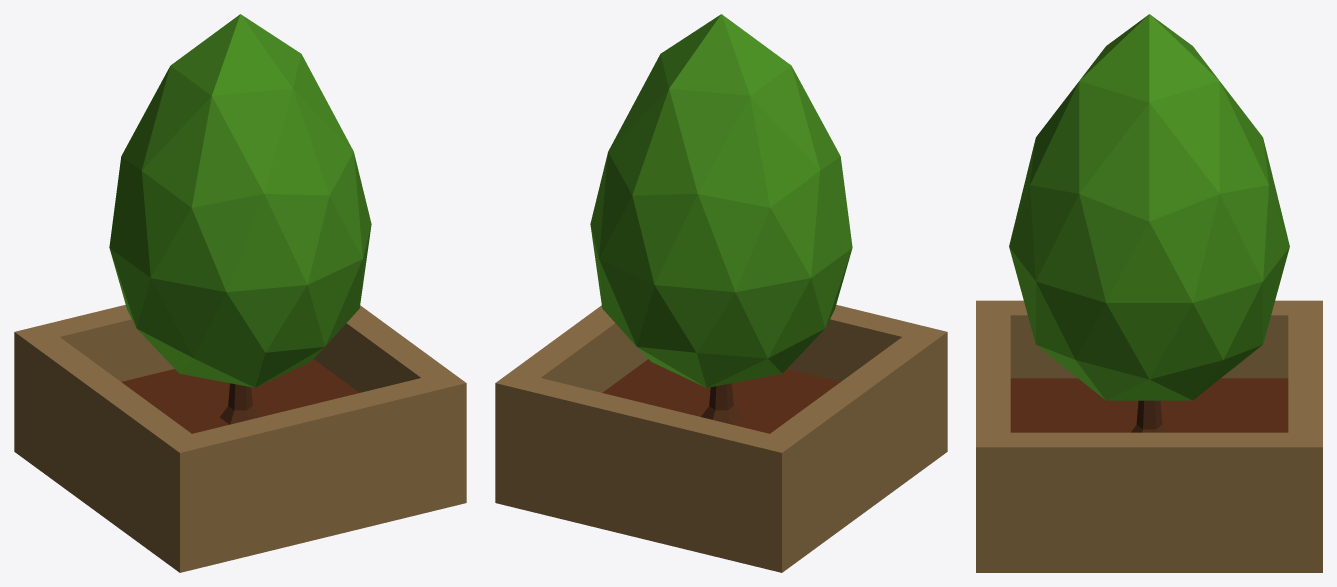
File: Garden Bed Box.fbx
3 renders of one model, left to right at view 1: azimuth 30°, elevation 25°; view 2: azimuth 150°, elevation 25°; view 3: azimuth 270°, elevation 25°, orthographic. The views are drawn at different scales.
Parts seen in each view (by area): view 1: Garden Bed Box; view 2: Garden Bed Box; view 3: Garden Bed Box.
Boxes of the visible parts, x1,y1,x2,y2 form: Garden Bed Box: [14, 14, 466, 572]; Garden Bed Box: [495, 14, 947, 572]; Garden Bed Box: [976, 14, 1322, 572].
Size of the model in its own units: 100 by 155 by 100.
